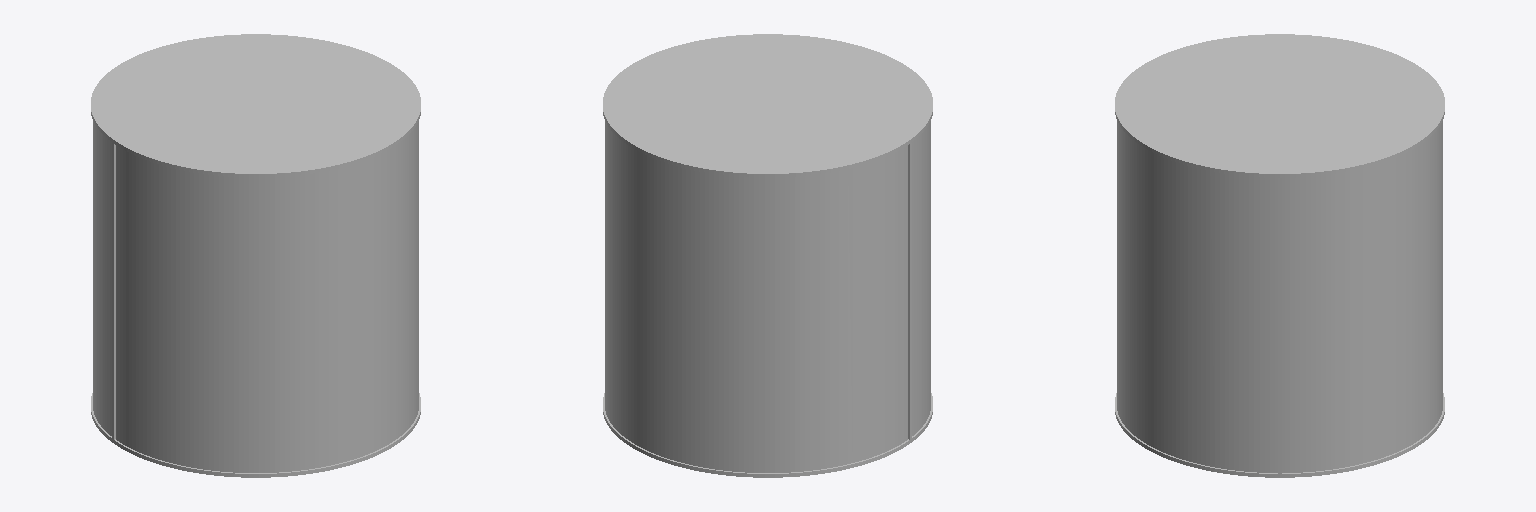
File: Cil.obj
3 views of the same model, side by side, from view 1: azimuth 30°, elevation 25°; view 2: azimuth 150°, elevation 25°; view 3: azimuth 270°, elevation 25° (orthographic).
Visible parts, largest first — view 1: Mesh1 Model; view 2: Mesh1 Model; view 3: Mesh1 Model.
Boxes of the visible parts, box(x1,y1,x2,y2) form: Mesh1 Model: box(91, 34, 420, 477); Mesh1 Model: box(603, 34, 932, 477); Mesh1 Model: box(1115, 34, 1444, 477).
Bounding box in the file's own units: 40 × 40.5 × 40.